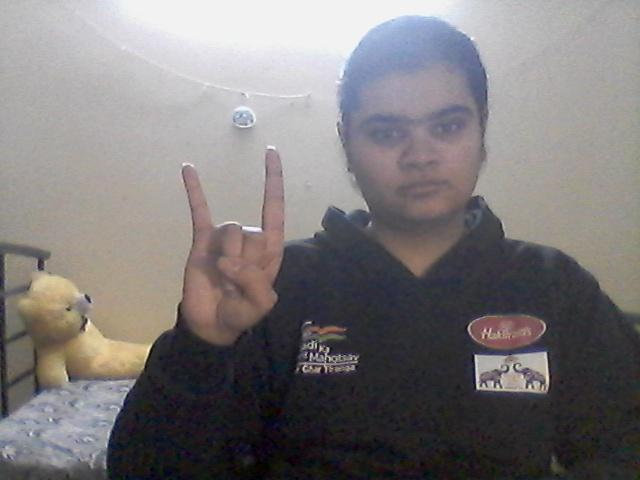ilove you: (170, 142, 294, 350)
